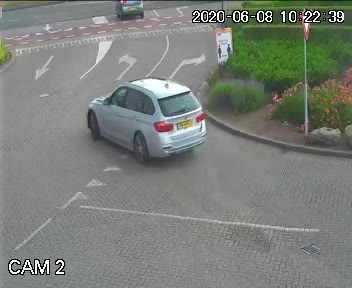car: (84, 62, 218, 173), (111, 0, 155, 24)
